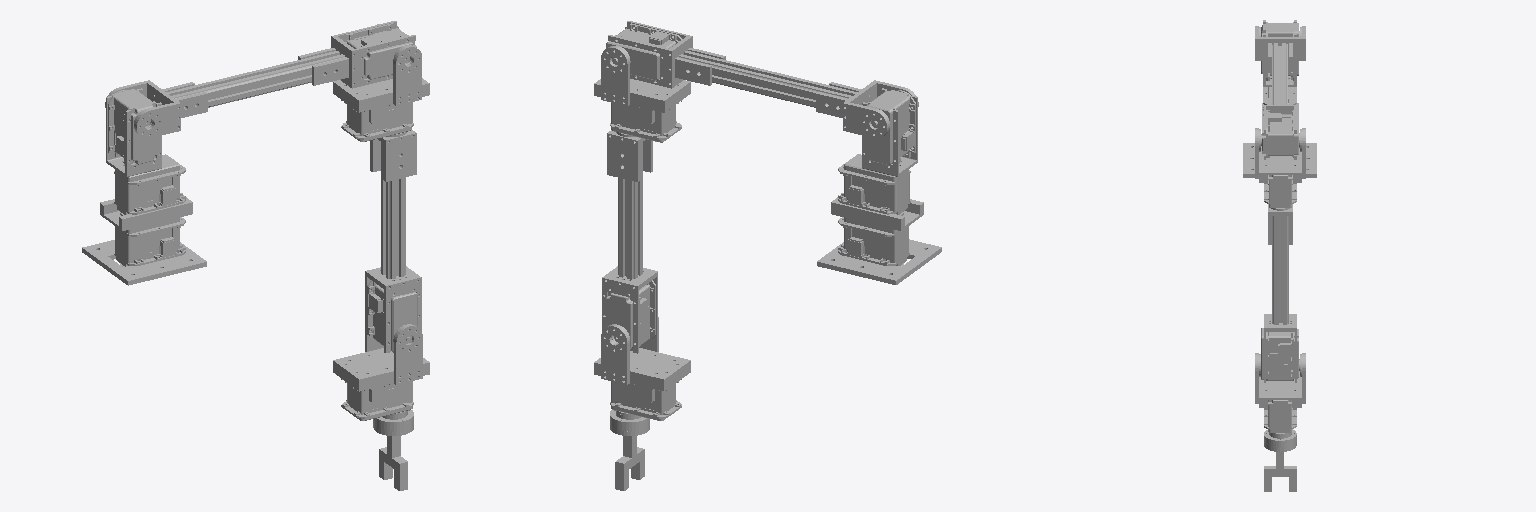
robot.urdf — mini_arm_URDF_V14:
<?xml version="1.0" encoding="utf-8"?>
<!-- This URDF was automatically created by SolidWorks to URDF Exporter! Originally created by [author] ([email redacted]) 
     Commit Version: 1.6.0-4-g7f85cfe  Build Version: 1.6.7995.38578
     For more information, please see http://wiki.ros.org/sw_urdf_exporter -->
<robot
  name="mini_arm_URDF_V14">
  <link
    name="base_link">
    <inertial>
      <origin
        xyz="0.0152120809406327 0.000125308682310796 0.0441924512930378"
        rpy="0 0 0" />
      <mass
        value="0.230341684406546" />
      <inertia
        ixx="7.89352916848205E-05"
        ixy="2.59676823376343E-09"
        ixz="1.82301660338588E-06"
        iyy="0.000121541815163212"
        iyz="4.42684608393501E-09"
        izz="0.000136369063275366" />
    </inertial>
    <visual>
      <origin
        xyz="0 0 0"
        rpy="0 0 0" />
      <geometry>
        <mesh
          filename="package://mini_arm_URDF_V14/meshes/base_link.STL" />
      </geometry>
      <material
        name="">
        <color
          rgba="0.752941176470588 0.752941176470588 0.752941176470588 1" />
      </material>
    </visual>
    <collision>
      <origin
        xyz="0 0 0"
        rpy="0 0 0" />
      <geometry>
        <mesh
          filename="package://mini_arm_URDF_V14/meshes/base_link.STL" />
      </geometry>
    </collision>
  </link>
  <link
    name="link2">
    <inertial>
      <origin
        xyz="-3.03489468325424E-05 0.000203216825615873 -0.0181222018654437"
        rpy="0 0 0" />
      <mass
        value="0.0980001989680498" />
      <inertia
        ixx="4.86579306654222E-05"
        ixy="-2.30135830707563E-09"
        ixz="2.64800242218561E-09"
        iyy="3.95095619287588E-05"
        iyz="-1.0228195921488E-06"
        izz="2.78748007098524E-05" />
    </inertial>
    <visual>
      <origin
        xyz="0 0 0"
        rpy="0 0 0" />
      <geometry>
        <mesh
          filename="package://mini_arm_URDF_V14/meshes/link2.STL" />
      </geometry>
      <material
        name="">
        <color
          rgba="0.752941176470588 0.752941176470588 0.752941176470588 1" />
      </material>
    </visual>
    <collision>
      <origin
        xyz="0 0 0"
        rpy="0 0 0" />
      <geometry>
        <mesh
          filename="package://mini_arm_URDF_V14/meshes/link2.STL" />
      </geometry>
    </collision>
  </link>
  <joint
    name="joint2"
    type="continuous">
    <origin
      xyz="0.00016 0.0001 0.161"
      rpy="0 0 0" />
    <parent
      link="base_link" />
    <child
      link="link2" />
    <axis
      xyz="0 0 1" />
  </joint>
  <link
    name="link3">
    <inertial>
      <origin
        xyz="0.196553646392586 0.000111939565813846 0.000304573079595583"
        rpy="0 0 0" />
      <mass
        value="0.192278578393887" />
      <inertia
        ixx="3.35627741623593E-05"
        ixy="2.13102678390393E-09"
        ixz="-1.02281960486398E-06"
        iyy="0.000239124991608248"
        iyz="-2.36082574205795E-09"
        izz="0.000232759388005939" />
    </inertial>
    <visual>
      <origin
        xyz="0 0 0"
        rpy="0 0 0" />
      <geometry>
        <mesh
          filename="package://mini_arm_URDF_V14/meshes/link3.STL" />
      </geometry>
      <material
        name="">
        <color
          rgba="0.752941176470588 0.752941176470588 0.752941176470588 1" />
      </material>
    </visual>
    <collision>
      <origin
        xyz="0 0 0"
        rpy="0 0 0" />
      <geometry>
        <mesh
          filename="package://mini_arm_URDF_V14/meshes/link3.STL" />
      </geometry>
    </collision>
  </link>
  <joint
    name="joint3"
    type="continuous">
    <origin
      xyz="0 0 0"
      rpy="-1.5708 0 0" />
    <parent
      link="link2" />
    <child
      link="link3" />
    <axis
      xyz="0 0 1" />
  </joint>
  <link
    name="link4">
    <inertial>
      <origin
        xyz="-0.0140743512658671 0.0511639166532189 0.000352319808974155"
        rpy="0 0 0" />
      <mass
        value="0.135305163576337" />
      <inertia
        ixx="3.80722867520779E-05"
        ixy="-7.89252731423858E-07"
        ixz="-1.64847431220499E-09"
        iyy="6.33852770559708E-05"
        iyz="2.30135907523564E-09"
        izz="6.60571926811448E-05" />
    </inertial>
    <visual>
      <origin
        xyz="0 0 0"
        rpy="0 0 0" />
      <geometry>
        <mesh
          filename="package://mini_arm_URDF_V14/meshes/link4.STL" />
      </geometry>
      <material
        name="">
        <color
          rgba="0.752941176470588 0.752941176470588 0.752941176470588 1" />
      </material>
    </visual>
    <collision>
      <origin
        xyz="0 0 0"
        rpy="0 0 0" />
      <geometry>
        <mesh
          filename="package://mini_arm_URDF_V14/meshes/link4.STL" />
      </geometry>
    </collision>
  </link>
  <joint
    name="joint4"
    type="continuous">
    <origin
      xyz="0.294 0.00025 0.00025"
      rpy="0 0 0" />
    <parent
      link="link3" />
    <child
      link="link4" />
    <axis
      xyz="0 0 1" />
  </joint>
  <link
    name="link5">
    <inertial>
      <origin
        xyz="-0.000116543154638715 8.4229187569132E-05 -0.0688706146611671"
        rpy="0 0 0" />
      <mass
        value="0.161294579176152" />
      <inertia
        ixx="0.000127874578310383"
        ixy="-2.30111808684093E-09"
        ixz="2.13104631082741E-09"
        iyy="0.000122983723606402"
        iyz="-1.02281959731175E-06"
        izz="3.09752956711605E-05" />
    </inertial>
    <visual>
      <origin
        xyz="0 0 0"
        rpy="0 0 0" />
      <geometry>
        <mesh
          filename="package://mini_arm_URDF_V14/meshes/link5.STL" />
      </geometry>
      <material
        name="">
        <color
          rgba="0.752941176470588 0.752941176470588 0.752941176470588 1" />
      </material>
    </visual>
    <collision>
      <origin
        xyz="0 0 0"
        rpy="0 0 0" />
      <geometry>
        <mesh
          filename="package://mini_arm_URDF_V14/meshes/link5.STL" />
      </geometry>
    </collision>
  </link>
  <joint
    name="joint5"
    type="continuous">
    <origin
      xyz="0.00025 0.302 0.00025"
      rpy="-1.5708 0 0" />
    <parent
      link="link4" />
    <child
      link="link5" />
    <axis
      xyz="0 0 1" />
  </joint>
  <link
    name="link6">
    <inertial>
      <origin
        xyz="-0.0140743512658674 0.0511639166532187 -0.000147680191025901"
        rpy="0 0 0" />
      <mass
        value="0.135305163576337" />
      <inertia
        ixx="3.80722867520779E-05"
        ixy="-7.89252731424249E-07"
        ixz="-1.64847431221257E-09"
        iyy="6.33852770559708E-05"
        iyz="2.30135907523702E-09"
        izz="6.60571926811449E-05" />
    </inertial>
    <visual>
      <origin
        xyz="0 0 0"
        rpy="0 0 0" />
      <geometry>
        <mesh
          filename="package://mini_arm_URDF_V14/meshes/link6.STL" />
      </geometry>
      <material
        name="">
        <color
          rgba="0.752941176470588 0.752941176470588 0.752941176470588 1" />
      </material>
    </visual>
    <collision>
      <origin
        xyz="0 0 0"
        rpy="0 0 0" />
      <geometry>
        <mesh
          filename="package://mini_arm_URDF_V14/meshes/link6.STL" />
      </geometry>
    </collision>
  </link>
  <joint
    name="joint6"
    type="continuous">
    <origin
      xyz="0 0 0"
      rpy="1.5708 0 0" />
    <parent
      link="link5" />
    <child
      link="link6" />
    <axis
      xyz="0 0 1" />
  </joint>
  <link
    name="llink7">
    <inertial>
      <origin
        xyz="8.93729534823251E-15 0.000150000000000386 0.115858466923271"
        rpy="0 0 0" />
      <mass
        value="0.0276776786723322" />
      <inertia
        ixx="1.14698847537059E-05"
        ixy="-8.39186014611805E-17"
        ixz="1.91206092312946E-20"
        iyy="1.00698847537059E-05"
        iyz="-4.56358220931152E-20"
        izz="5.14105455188229E-06" />
    </inertial>
    <visual>
      <origin
        xyz="0 0 0"
        rpy="0 0 0" />
      <geometry>
        <mesh
          filename="package://mini_arm_URDF_V14/meshes/llink7.STL" />
      </geometry>
      <material
        name="">
        <color
          rgba="0.752941176470588 0.752941176470588 0.752941176470588 1" />
      </material>
    </visual>
    <collision>
      <origin
        xyz="0 0 0"
        rpy="0 0 0" />
      <geometry>
        <mesh
          filename="package://mini_arm_URDF_V14/meshes/llink7.STL" />
      </geometry>
    </collision>
  </link>
  <joint
    name="joint7"
    type="continuous">
    <origin
      xyz="0 0 0"
      rpy="-1.5708 0 0" />
    <parent
      link="link6" />
    <child
      link="llink7" />
    <axis
      xyz="0 0 1" />
  </joint>
</robot>

--- Facts derived from the render (not from the file) ---
Views: 3 orthographic renders of the robot side by side, from view 1: azimuth 30°, elevation 25°; view 2: azimuth 150°, elevation 25°; view 3: azimuth 270°, elevation 25°.
Model mini_arm_URDF_V14 with 7 links and 6 joints (6 continuous), rooted at base_link, posed every joint at zero.
Links seen in each view (by area): view 1: link3, base_link, link5, link6, link4, link2, llink7; view 2: link3, base_link, link5, link6, link4, link2, llink7; view 3: link5, link3, link6, link4, llink7, base_link, link2.
Link boxes in pixels (box(x1,y1,x2,y2)): link3: box(105, 21, 416, 138); base_link: box(82, 154, 206, 285); link5: box(365, 130, 421, 352); link6: box(333, 324, 429, 420); link4: box(333, 24, 429, 141); link2: box(106, 88, 161, 176); llink7: box(373, 410, 413, 490); link3: box(606, 21, 918, 138); base_link: box(817, 154, 941, 284); link5: box(602, 130, 657, 353); link6: box(594, 317, 690, 420); link4: box(594, 46, 690, 142); link2: box(862, 88, 917, 176); llink7: box(610, 410, 649, 490); link5: box(1259, 204, 1301, 382); link3: box(1255, 26, 1305, 159); link6: box(1255, 353, 1305, 435); link4: box(1255, 128, 1305, 210); llink7: box(1264, 429, 1296, 491); base_link: box(1243, 87, 1316, 177); link2: box(1259, 20, 1301, 86).
Size in the robot's own frame: 0.3535 by 0.09 by 0.4895 metres.
Meshes: 7 distinct files referenced, 7 mesh visuals loaded (7 binary STL).